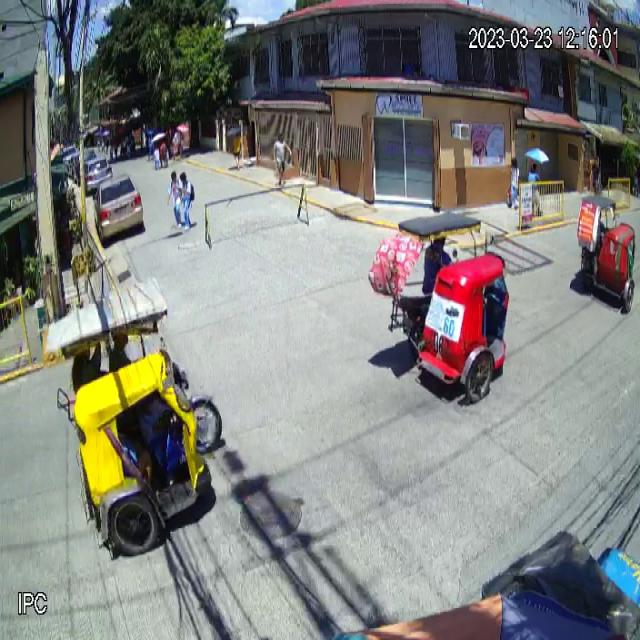Tricycle: (45, 276, 224, 556), (387, 211, 510, 403), (576, 194, 636, 314)
